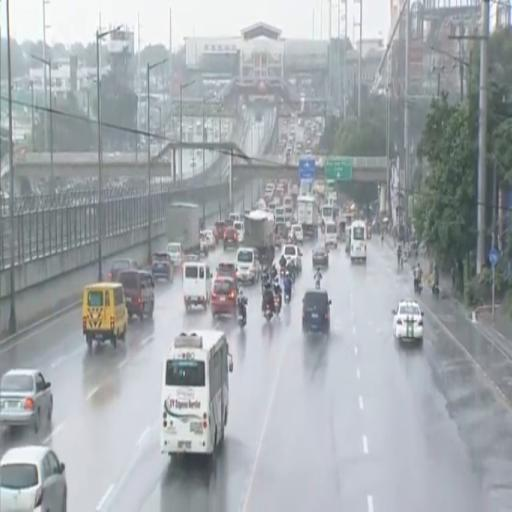bus: (161, 330, 232, 455), (350, 220, 366, 263)
car: (0, 445, 67, 511), (0, 370, 53, 433), (120, 270, 154, 321), (393, 299, 423, 343), (302, 290, 331, 334), (211, 277, 238, 316), (236, 247, 260, 284), (108, 259, 139, 281), (152, 251, 173, 282), (282, 244, 302, 271), (167, 243, 184, 268), (312, 246, 329, 267), (224, 227, 238, 250), (216, 263, 236, 279), (201, 230, 217, 249), (233, 221, 244, 243), (291, 224, 303, 243), (200, 233, 209, 257)
motorcycle: (262, 295, 275, 321), (237, 303, 246, 328), (286, 263, 296, 282), (274, 294, 282, 316), (264, 304, 273, 321), (414, 280, 422, 295), (432, 284, 439, 298), (280, 267, 285, 280), (285, 293, 290, 305), (315, 278, 320, 290)
truck: (166, 203, 202, 254), (244, 211, 275, 267), (297, 196, 318, 238)
